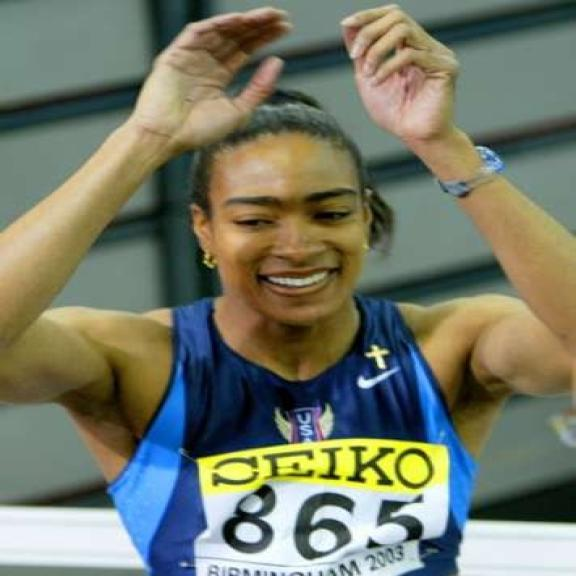face: (188, 138, 378, 330)
